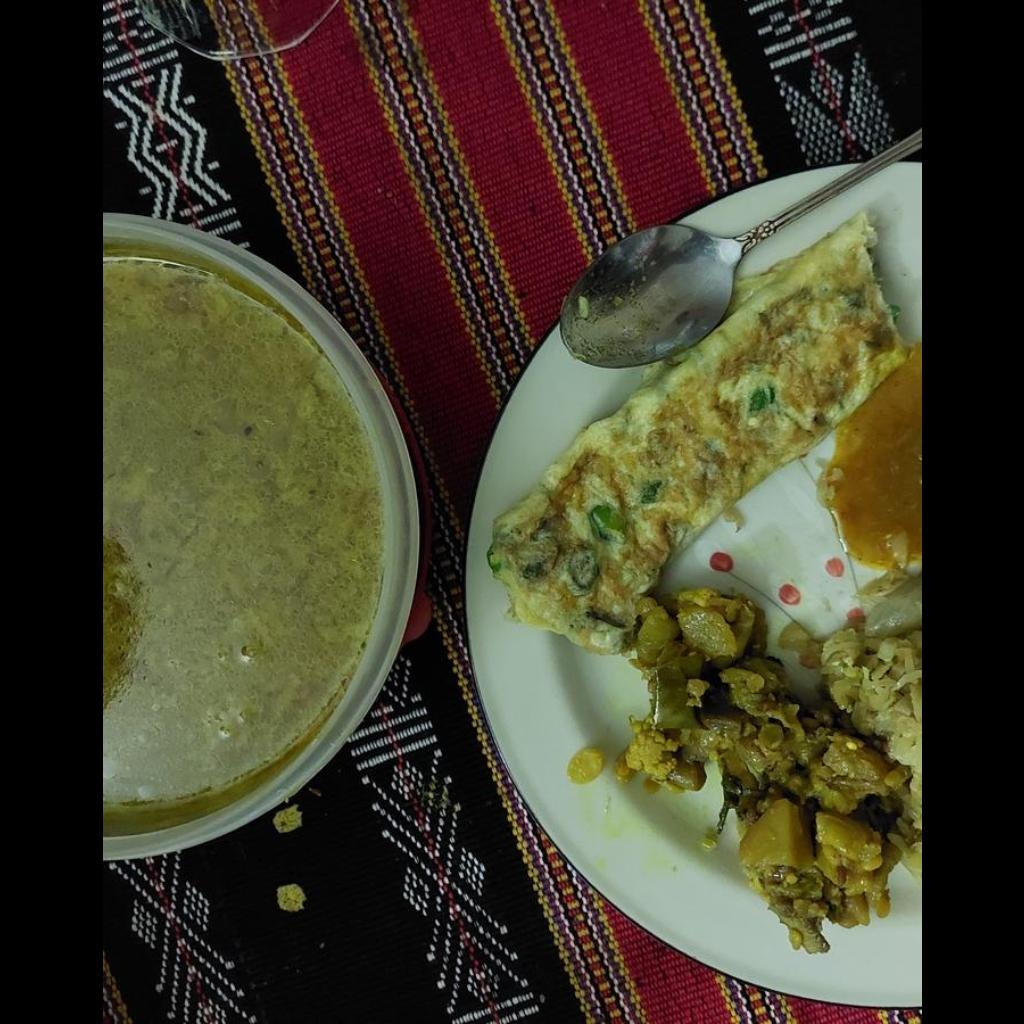daal: (102, 262, 382, 804)
egg-poached: (486, 210, 906, 653)
vaji: (574, 591, 920, 946)
